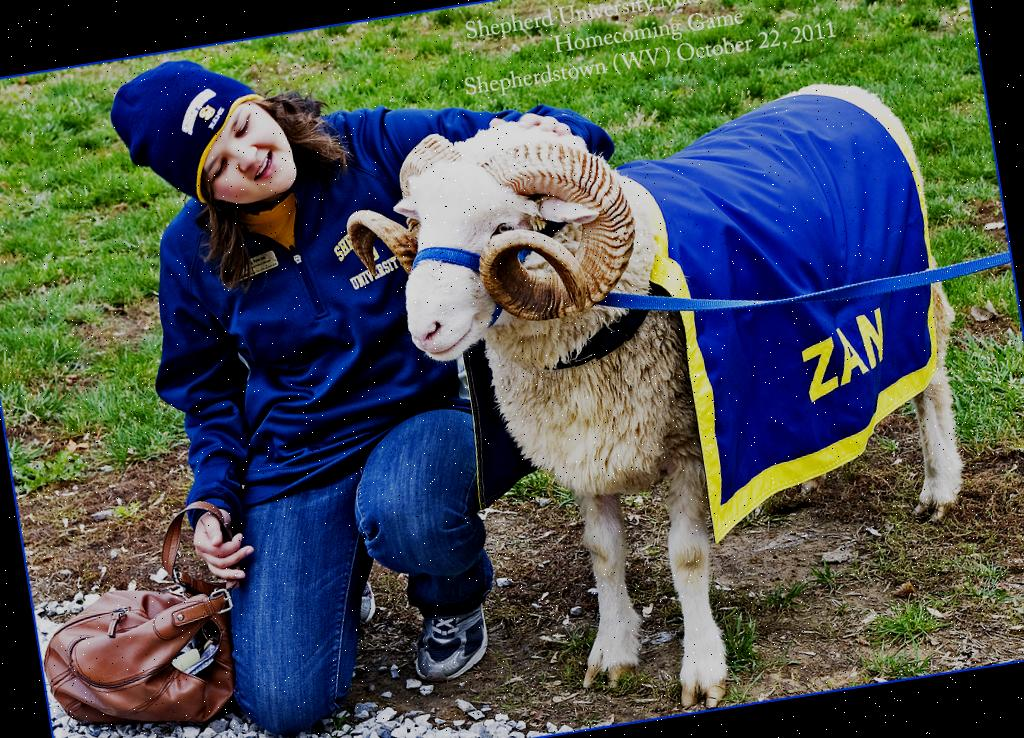Sheep: (331, 56, 1013, 738)
